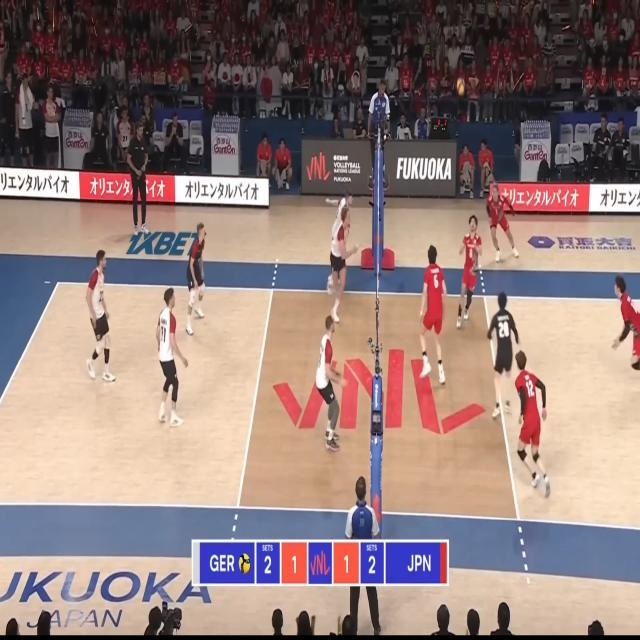ball: (457, 77, 465, 95)
